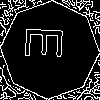E: (25, 25, 72, 61)
